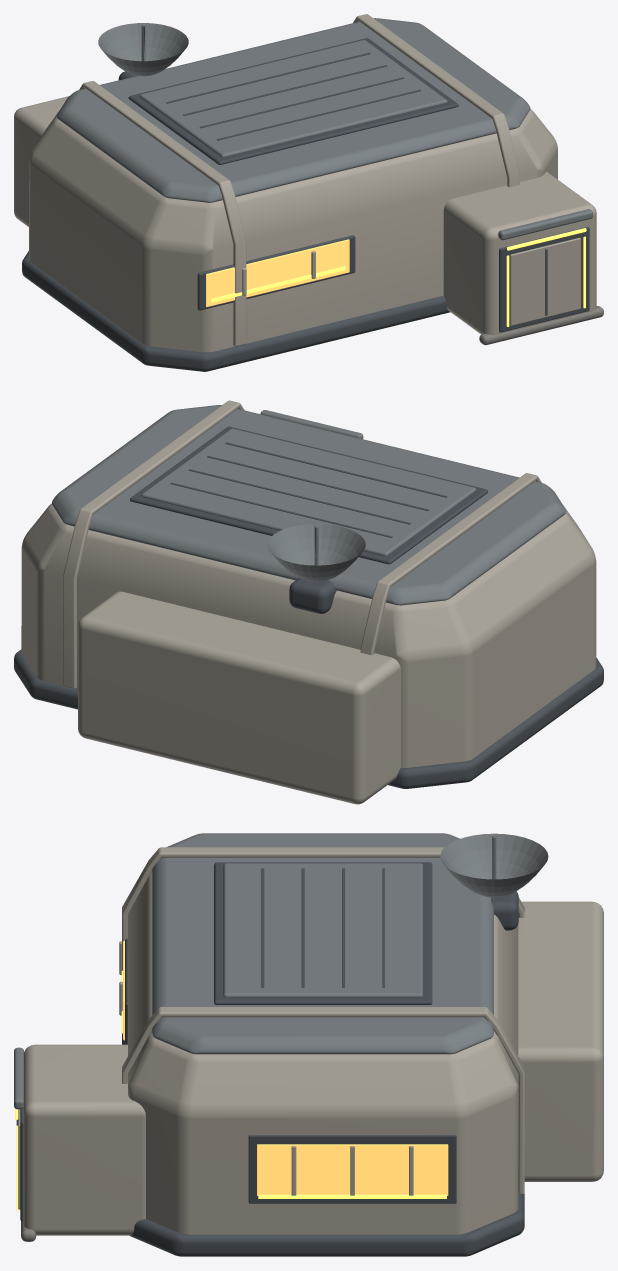
File: research-station.glb
3 views of the same model, one above another, from view 1: azimuth 30°, elevation 25°; view 2: azimuth 150°, elevation 25°; view 3: azimuth 270°, elevation 25° (orthographic). The views are drawn at different scales.
Visible parts, largest first — view 1: LAB refined / pressure hull.001, LAB refined / continuous roof.001, LAB precision / thermal cassette.001, LAB refined / airlock body.001, LAB refined / lower skirt.001, LAB refined / airlock door.001, LAB precision / flat structural strap.002, LAB refined / glazing.001, Tracking dish • editable solid geometry.001, LAB precision / thermal cassette gasket.001, LAB precision / flat structural strap.003, LAB refined / rear service volume.001 (+5 smaller); view 2: LAB refined / pressure hull.001, LAB refined / rear service volume.001, LAB refined / continuous roof.001, LAB precision / thermal cassette.001, LAB refined / lower skirt.001, LAB precision / flat structural strap.003, Tracking dish • editable solid geometry.001, LAB precision / thermal cassette gasket.001, LAB precision / flat structural strap.002, LAB refined / antenna plinth.001, LAB precision / airlock header.001, LAB precision / thermal channel.007 (+3 smaller); view 3: LAB refined / pressure hull.001, LAB refined / continuous roof.001, LAB precision / thermal cassette.001, LAB refined / rear service volume.001, LAB refined / airlock body.001, LAB refined / lower skirt.001, LAB refined / side service cover.001, LAB precision / flat structural strap.003, Tracking dish • editable solid geometry.001, LAB precision / thermal cassette gasket.001, LAB refined / side service inset.001, LAB precision / flat structural strap.002 (+3 smaller).
Boxes of the visible parts, left/top/right/bottom form: LAB refined / pressure hull.001: left=29, top=109, right=557, bottom=352; LAB refined / continuous roof.001: left=57, top=18, right=530, bottom=202; LAB precision / thermal cassette.001: left=139, top=40, right=447, bottom=157; LAB refined / airlock body.001: left=443, top=171, right=596, bottom=334; LAB refined / lower skirt.001: left=22, top=251, right=450, bottom=371; LAB refined / airlock door.001: left=510, top=237, right=580, bottom=325; LAB precision / flat structural strap.002: left=79, top=81, right=246, bottom=346; LAB refined / glazing.001: left=206, top=239, right=349, bottom=306; Tracking dish • editable solid geometry.001: left=98, top=23, right=188, bottom=76; LAB precision / thermal cassette gasket.001: left=128, top=38, right=458, bottom=164; LAB precision / flat structural strap.003: left=353, top=14, right=519, bottom=187; LAB refined / rear service volume.001: left=14, top=96, right=68, bottom=226; LAB refined / pressure hull.001: left=21, top=503, right=596, bottom=767; LAB refined / rear service volume.001: left=78, top=591, right=400, bottom=804; LAB refined / continuous roof.001: left=52, top=405, right=565, bottom=605; LAB precision / thermal cassette.001: left=141, top=428, right=476, bottom=556; LAB refined / lower skirt.001: left=14, top=649, right=603, bottom=788; LAB precision / flat structural strap.003: left=63, top=400, right=244, bottom=689; Tracking dish • editable solid geometry.001: left=267, top=524, right=365, bottom=581; LAB precision / thermal cassette gasket.001: left=130, top=426, right=487, bottom=564; LAB precision / flat structural strap.002: left=360, top=473, right=541, bottom=655; LAB refined / antenna plinth.001: left=289, top=578, right=336, bottom=613; LAB precision / airlock header.001: left=260, top=410, right=363, bottom=439; LAB precision / thermal channel.007: left=170, top=482, right=392, bottom=537; LAB refined / pressure hull.001: left=128, top=872, right=518, bottom=1234; LAB refined / continuous roof.001: left=152, top=833, right=493, bottom=1054; LAB precision / thermal cassette.001: left=223, top=863, right=422, bottom=997; LAB refined / rear service volume.001: left=518, top=901, right=603, bottom=1181; LAB refined / airlock body.001: left=23, top=1044, right=145, bottom=1235; LAB refined / lower skirt.001: left=122, top=1034, right=524, bottom=1256; LAB refined / side service cover.001: left=257, top=1144, right=448, bottom=1195; LAB precision / flat structural strap.003: left=122, top=1007, right=524, bottom=1194; Tracking dish • editable solid geometry.001: left=440, top=833, right=548, bottom=897; LAB precision / thermal cassette gasket.001: left=214, top=862, right=432, bottom=1004; LAB refined / side service inset.001: left=248, top=1135, right=456, bottom=1203; LAB precision / flat structural strap.002: left=122, top=847, right=524, bottom=1034.
Size of the model in its own units: 6.95 by 3.34 by 7.03.
